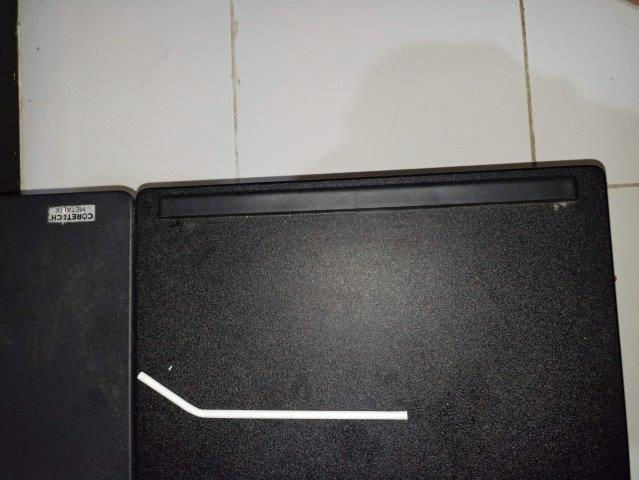sedotan: (137, 371, 407, 421)
